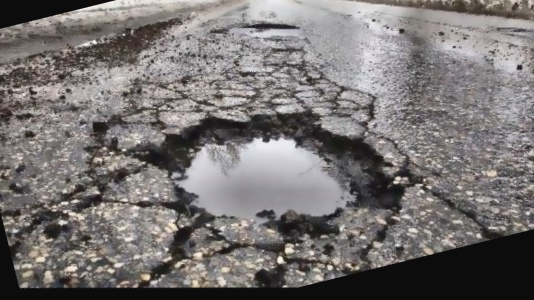pothole: (102, 42, 446, 300), (241, 8, 299, 43)
